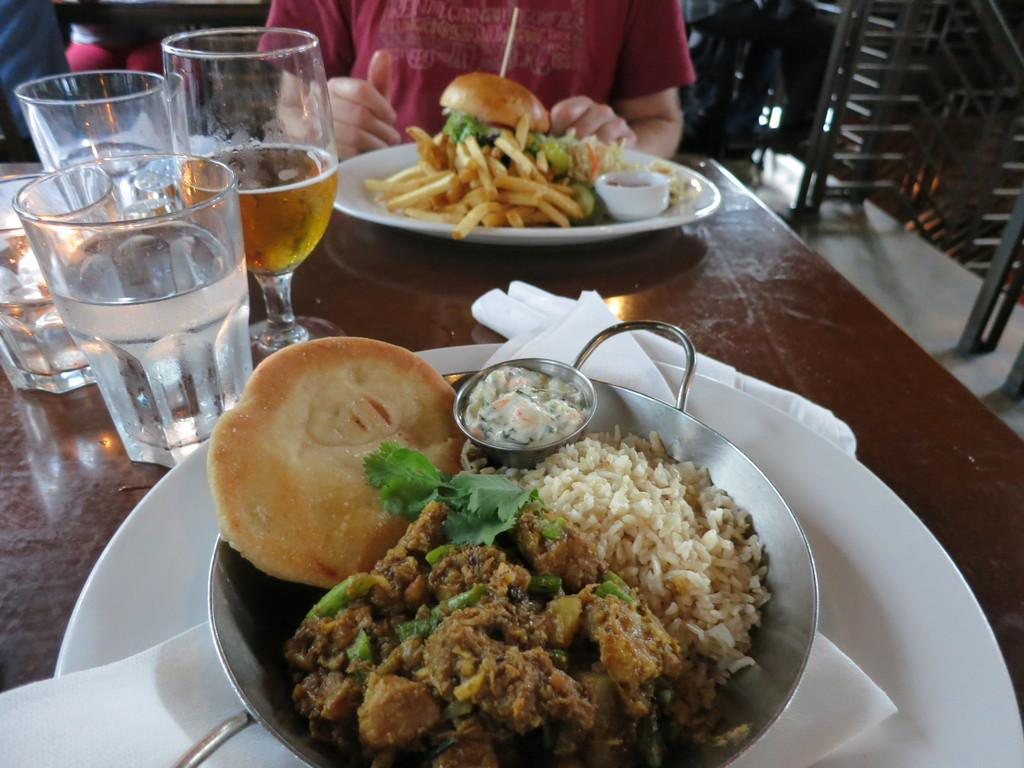French fries: (374, 90, 604, 221)
